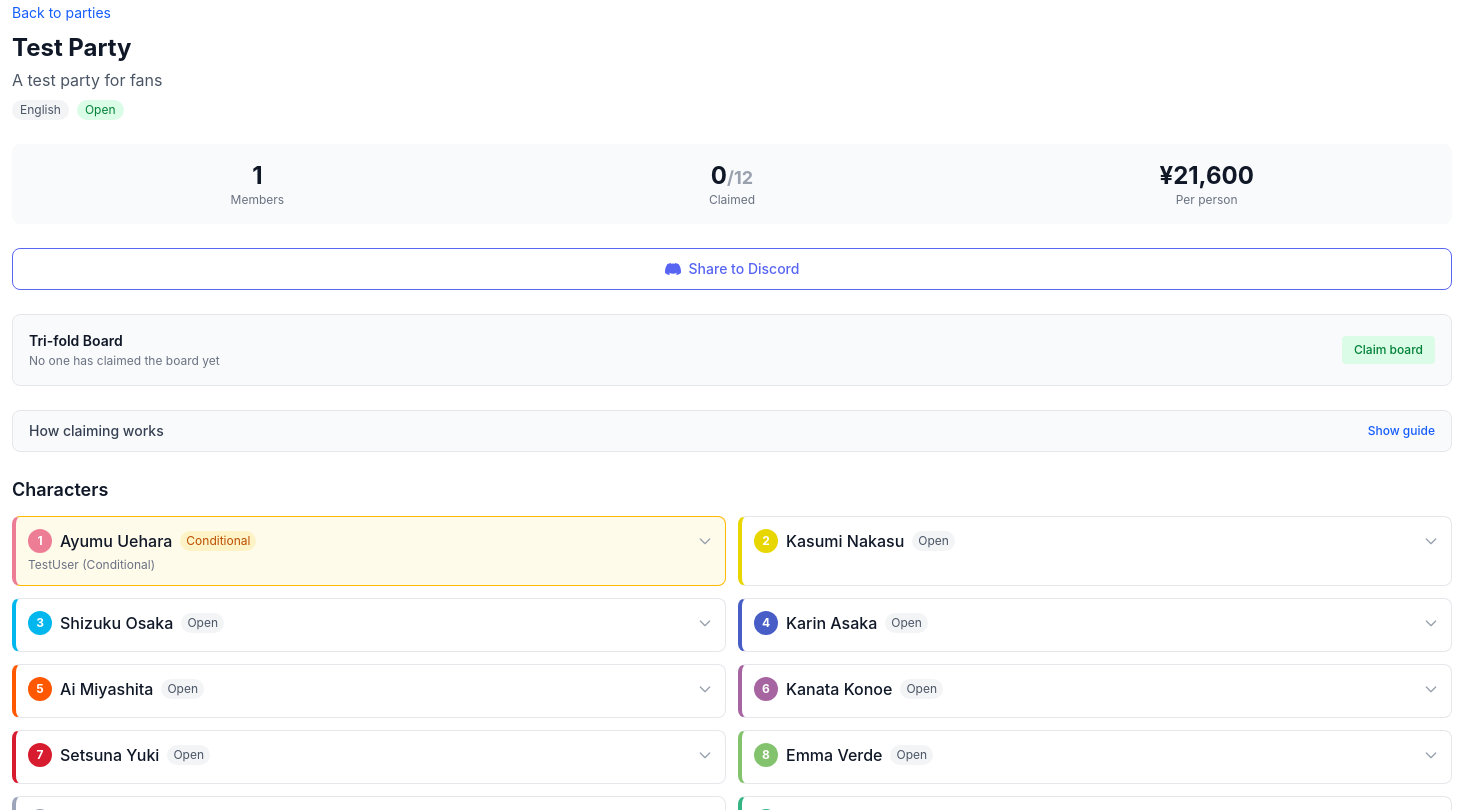
Test case: PartyDetail — RECORD scenarios (claim states) › shows cancel conditional button for user's own conditional claim
Expected: the heading "Test Party" is shown, [12,33,132,62]
Click the text "Ayumu Uehara". click: {"x": 116, "y": 541}
box: [60,529,172,553]
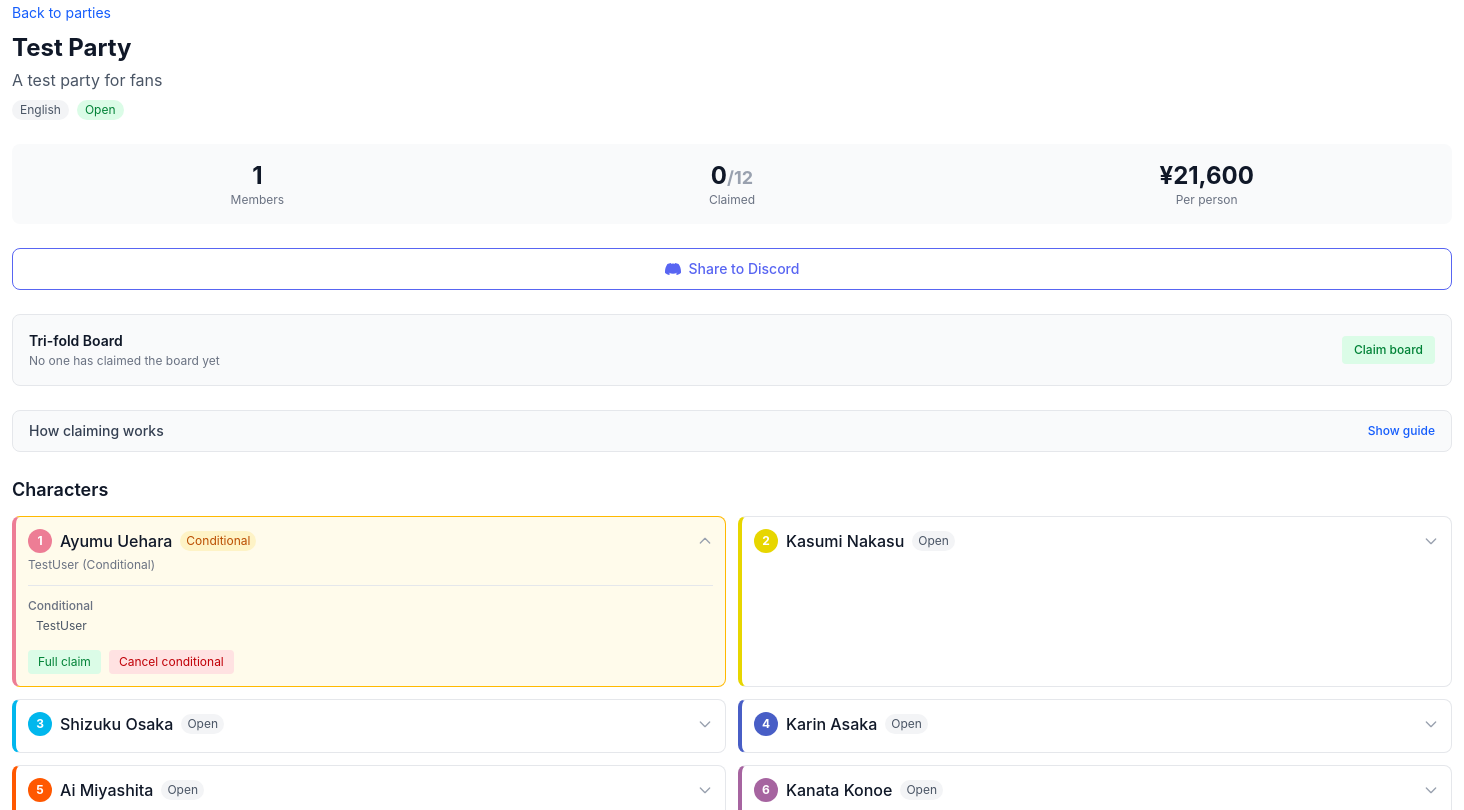
Expected: the button "Cancel conditional" is shown, [109,650,234,674]
